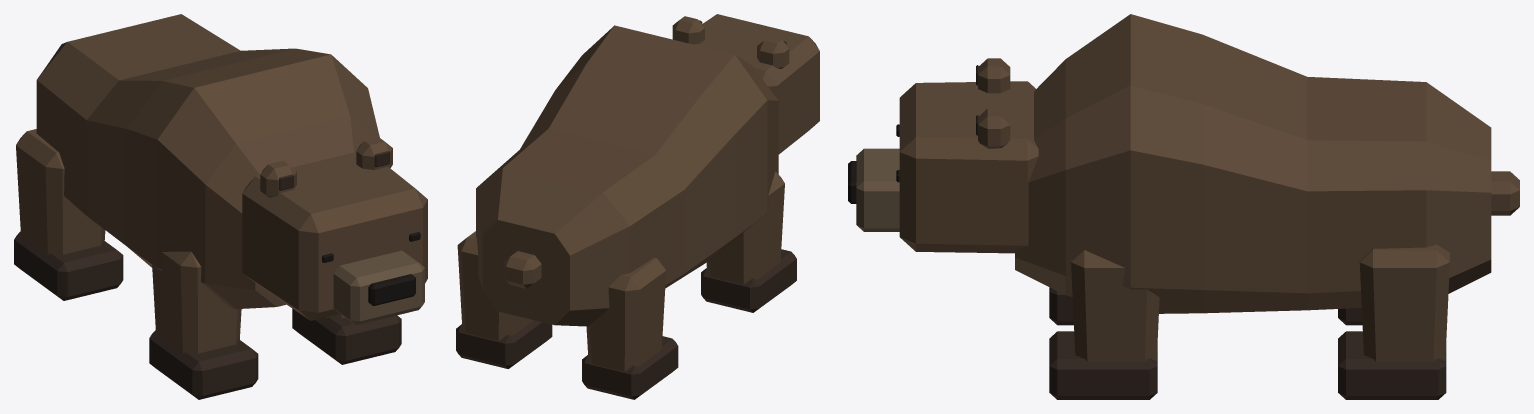
File: zenscape-bear-blocky.glb
3 views of the same model, side by side, from view 1: azimuth 30°, elevation 25°; view 2: azimuth 150°, elevation 25°; view 3: azimuth 270°, elevation 25° (orthographic). The views are drawn at different scales.
Visible parts, largest first — view 1: Bear_Body, Bear_SquareHead, Bear_Leg_Rear_R, Bear_Leg_Front_R, Bear_Paw_Rear_R, Bear_Paw_Front_R, Bear_ShortMuzzle, Bear_Paw_Front_L, Bear_Nose, Bear_Ear_R, Bear_Ear_L; view 2: Bear_Body, Bear_SquareHead, Bear_Leg_Rear_R, Bear_Leg_Front_R, Bear_Leg_Rear_L, Bear_Paw_Rear_R, Bear_Paw_Front_R, Bear_Paw_Rear_L, Bear_Tail, Bear_Ear_R, Bear_Ear_L; view 3: Bear_Body, Bear_SquareHead, Bear_Leg_Rear_L, Bear_Leg_Front_L, Bear_Paw_Front_L, Bear_Paw_Rear_L, Bear_ShortMuzzle, Bear_Tail, Bear_Ear_L, Bear_Ear_R, Bear_Paw_Front_R.
Part boxes in pixels (box(x1,y1,x2,y2)): Bear_Body: box(36, 14, 379, 309); Bear_SquareHead: box(242, 152, 427, 320); Bear_Leg_Rear_R: box(16, 129, 105, 254); Bear_Leg_Front_R: box(152, 251, 241, 353); Bear_Paw_Rear_R: box(14, 231, 123, 300); Bear_Paw_Front_R: box(149, 330, 258, 399); Bear_ShortMuzzle: box(333, 250, 424, 325); Bear_Paw_Front_L: box(292, 308, 401, 364); Bear_Nose: box(368, 274, 415, 306); Bear_Ear_R: box(260, 160, 296, 197); Bear_Ear_L: box(356, 137, 392, 169); Bear_Body: box(476, 25, 778, 326); Bear_SquareHead: box(693, 14, 819, 154); Bear_Leg_Rear_R: box(586, 257, 666, 371); Bear_Leg_Front_R: box(706, 171, 784, 284); Bear_Leg_Rear_L: box(457, 231, 533, 340); Bear_Paw_Rear_R: box(582, 336, 678, 399); Bear_Paw_Front_R: box(701, 249, 796, 312); Bear_Paw_Rear_L: box(456, 320, 552, 368); Bear_Tail: box(503, 251, 541, 288); Bear_Ear_R: box(757, 36, 789, 68); Bear_Ear_L: box(672, 16, 704, 44); Bear_Body: box(1015, 14, 1491, 313); Bear_SquareHead: box(899, 81, 1038, 253); Bear_Leg_Rear_L: box(1359, 244, 1449, 361); Bear_Leg_Front_L: box(1071, 250, 1159, 361); Bear_Paw_Front_L: box(1049, 331, 1157, 399); Bear_Paw_Rear_L: box(1338, 331, 1446, 399); Bear_ShortMuzzle: box(856, 148, 899, 231); Bear_Tail: box(1491, 171, 1519, 215); Bear_Ear_L: box(978, 108, 1010, 148); Bear_Ear_R: box(978, 58, 1010, 93); Bear_Paw_Front_R: box(1049, 287, 1073, 325).
Size of the model in its own units: 0.72 by 0.9145 by 1.86.
